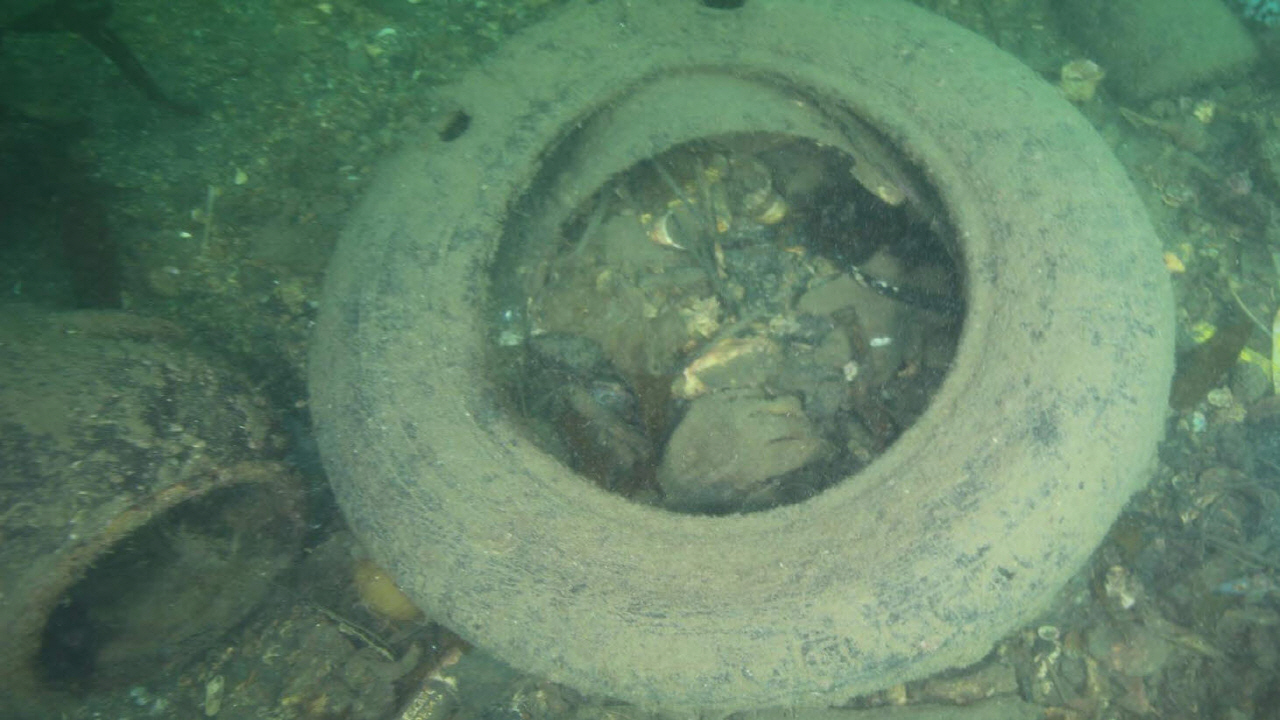tire: (309, 0, 1179, 715)
